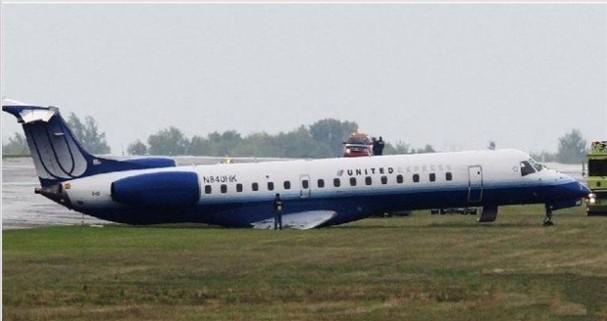airplane: (1, 91, 593, 226)
